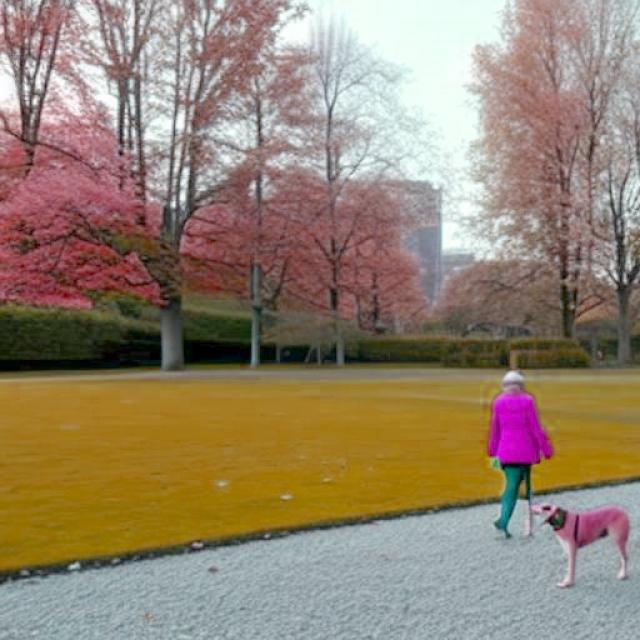Unleashed_Dog: (494, 447, 632, 588)
